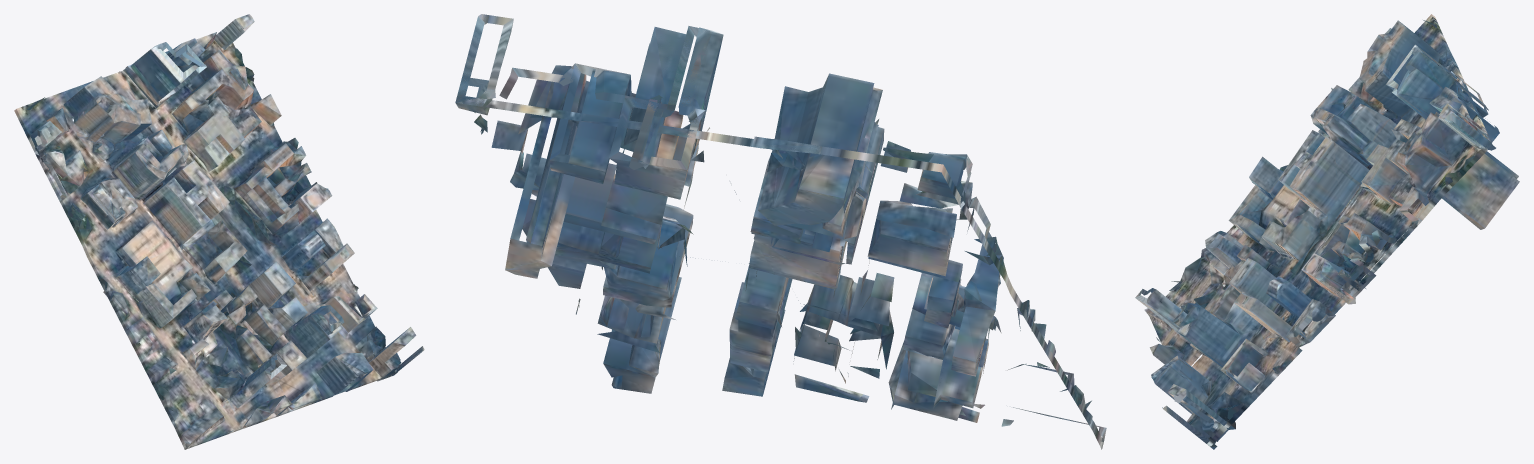
The model's file is AJVsH2wbIucurCpZKHnhvfzMzEHWxPi51-Jsuj_YSjNB89zHgzBjIO_5oAMCxIoXlyYebzpd8zZ3ClArSsnLj05aCtGRDEzi5c1ivIq_2ZewltJukFwCdH2QIb9ztUCA1loHjeMJRm0-pK5iOuO4_NyGEcvaNBarsA.glb.
The picture shows the model from 3 angles, left to right: view 1: azimuth 30°, elevation 25°; view 2: azimuth 150°, elevation 25°; view 3: azimuth 270°, elevation 25°; orthographic projection. The views are drawn at different scales.
Size of the model in its own units: 525 by 522 by 557.
2 materials, 2 textured.
